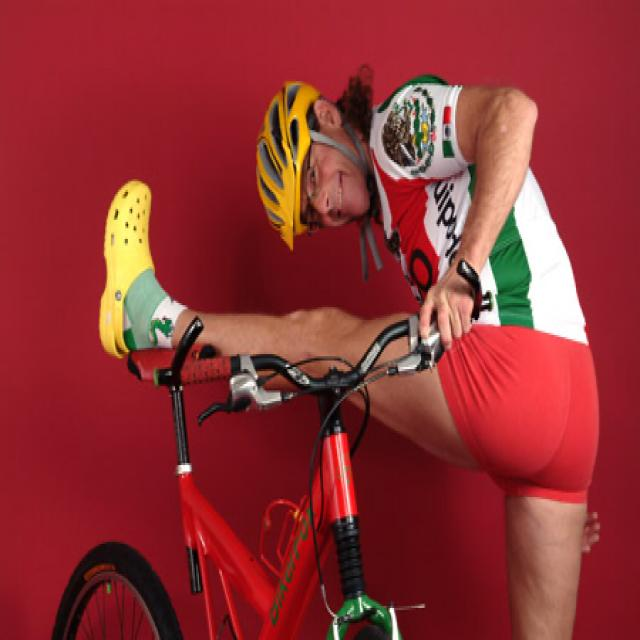helmet: (250, 73, 319, 256)
